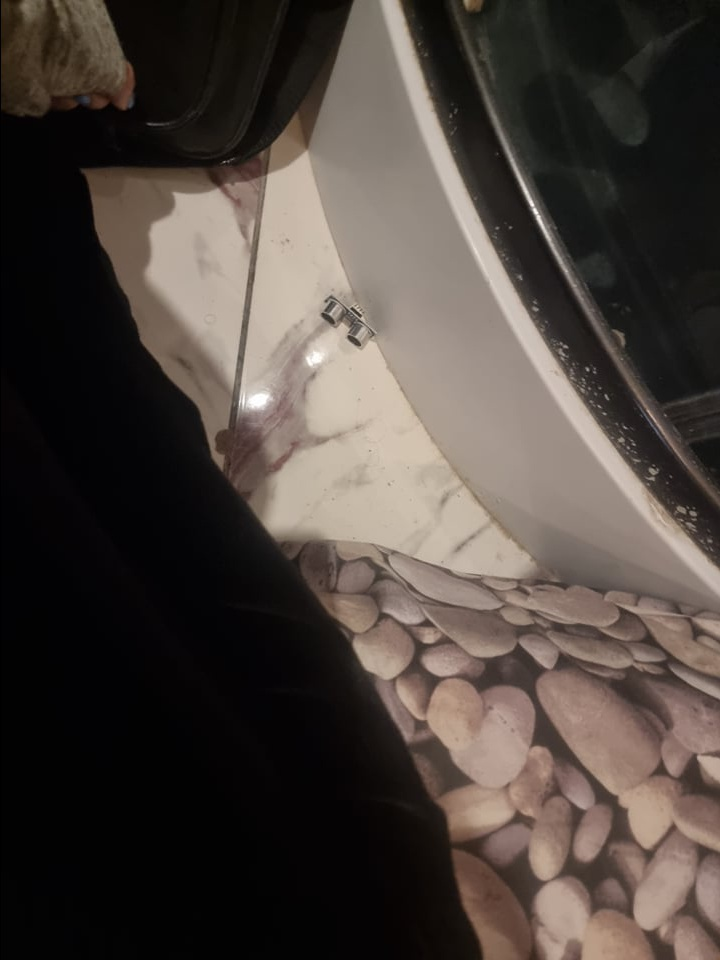SENSOR: (317, 289, 374, 350)
